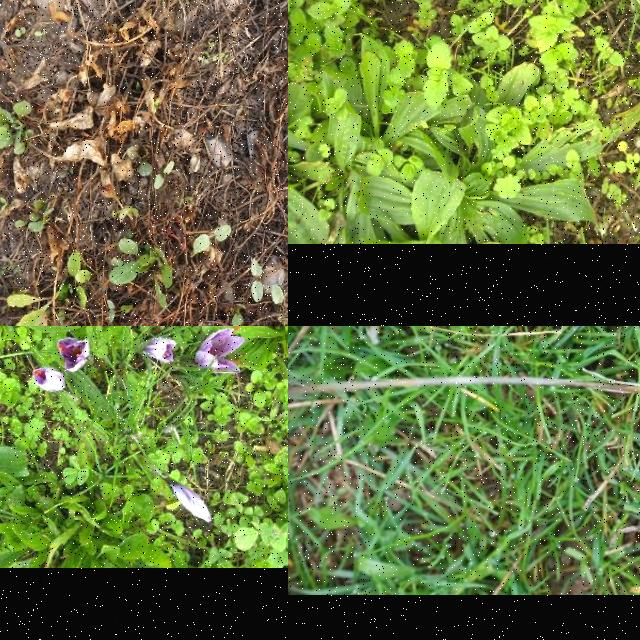flower: (195, 328, 248, 372), (170, 474, 212, 522), (58, 337, 90, 373), (144, 337, 176, 363), (33, 369, 66, 393)
